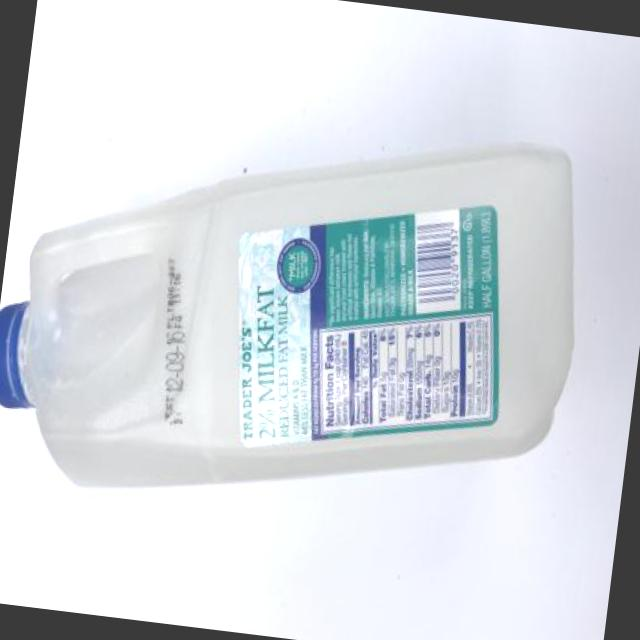Recycle: (0, 74, 601, 547)
